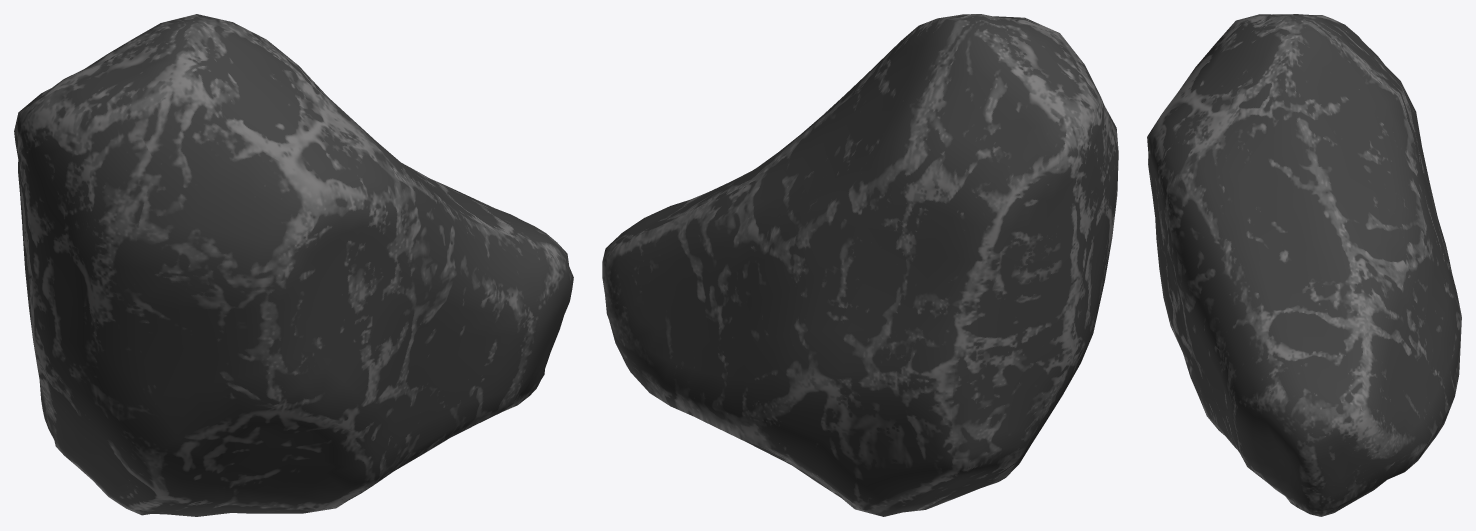
The model's file is MainRock3LowPoly.fbx.
3 renders of one model, left to right at view 1: azimuth 30°, elevation 25°; view 2: azimuth 150°, elevation 25°; view 3: azimuth 270°, elevation 25°, orthographic. The views are drawn at different scales.
Parts seen in each view (by area): view 1: MainRock3LowPoly; view 2: MainRock3LowPoly; view 3: MainRock3LowPoly.
Part boxes in pixels (bbox=[...]): MainRock3LowPoly: bbox=[14, 14, 573, 516]; MainRock3LowPoly: bbox=[602, 14, 1118, 516]; MainRock3LowPoly: bbox=[1147, 14, 1461, 516].
Bounding box in the file's own units: 201 × 190 × 132.
Materials: 1 (1 with a texture image).
